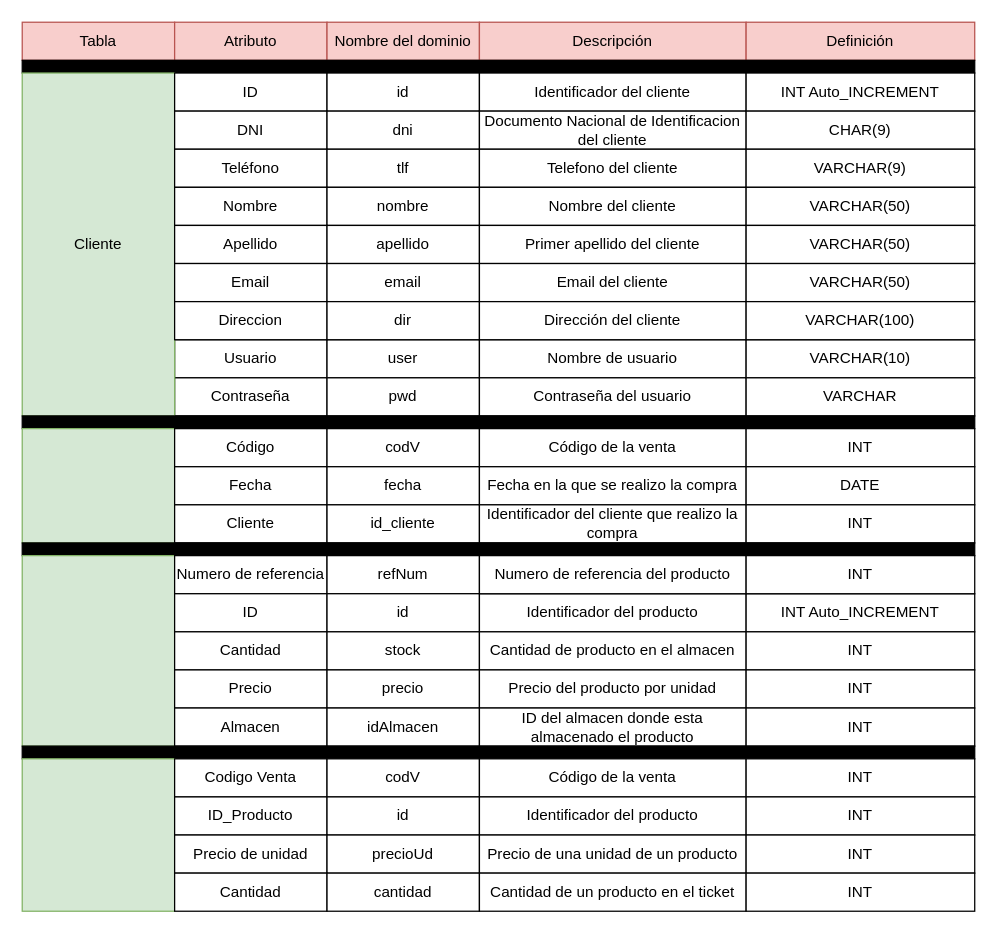
Image size: 997x933. Some labels were removed from this diagram. The centre of each missing label's shape, as x and y in pixels:
"Producto" goes at point 98,650.
"Productos_Venta" goes at point 98,834.
"Venta" goes at point 98,485.
